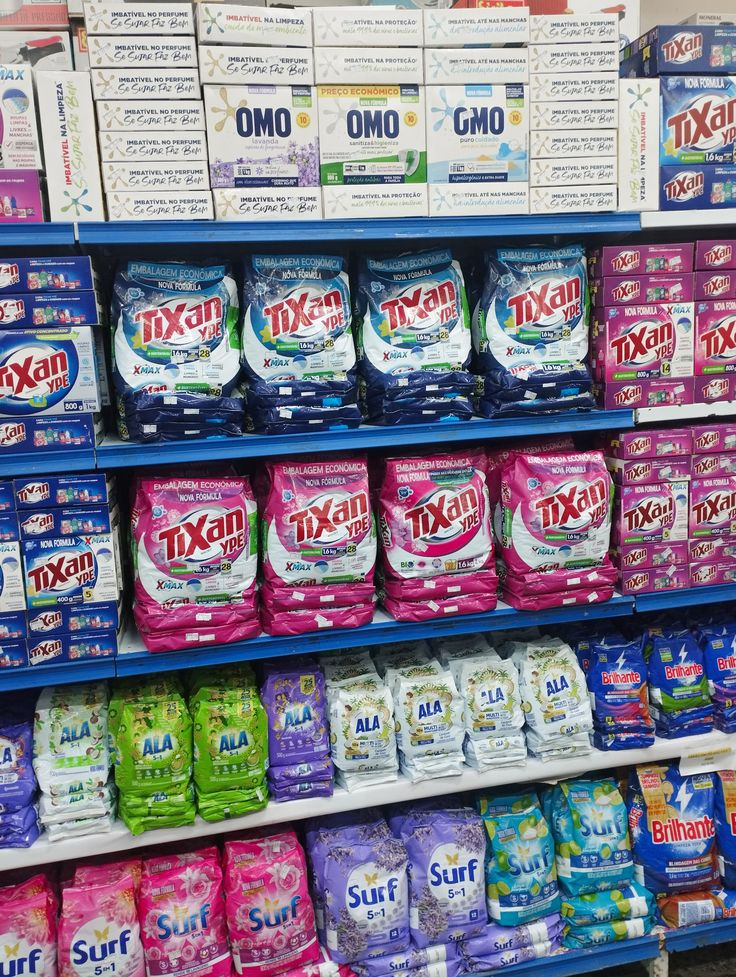Ala: (333, 695, 397, 759)
Omo: (323, 82, 422, 181)
Surf: (320, 839, 420, 939)
Tixan: (107, 256, 241, 390)
Tixan Ype: (135, 476, 259, 600)
